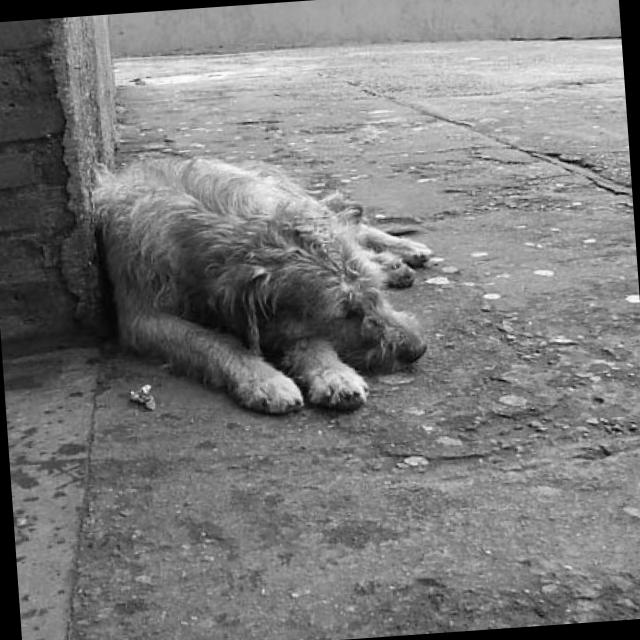laying down: (76, 128, 444, 436)
